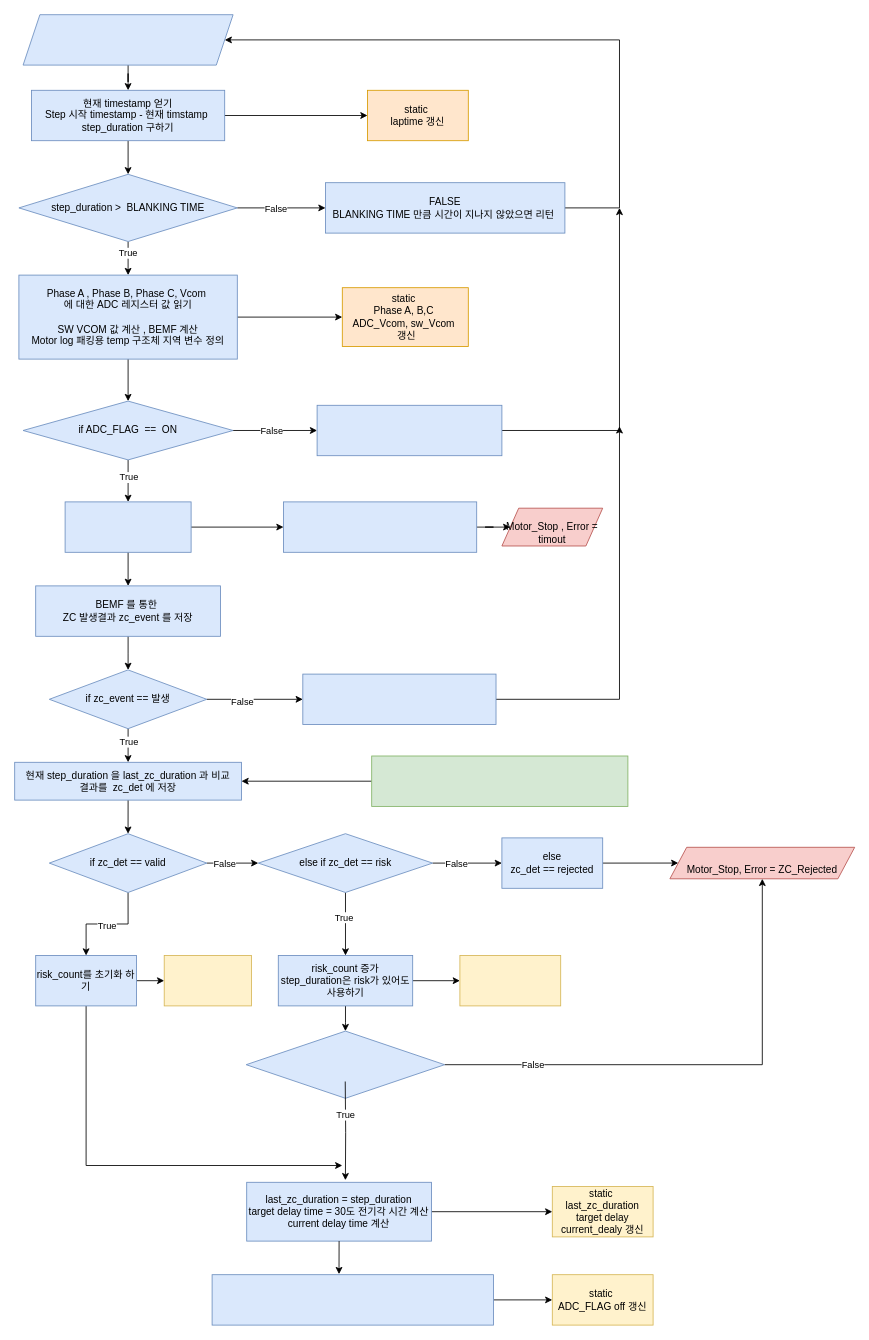
Some shapes in this 869 by 1340 pixel diagram are drawn without their labels. Here are the shapes that lost their labels. From the top down, the centre of each, then its label:
pixel 127 39: ADC 변환 완료 ISR , 20KHz 마다 진입
pixel 409 430: FALSE ADC 플래그가 세워져이 있지 않으면 이후 동작 하지 않고 리턴
pixel 127 526: if step_duration < TIMEOUT
pixel 380 526: FALSE laptime 이 TIMEOUT 보다 길어지면 에러
pixel 399 698: FALSE zc 발생 안했을시 리턴
pixel 499 780: step_duration 과 last_zc_duration을 비교하는 로직 첫 루프 진입시의 예외 처리, 비교 기준 등이 요구됨
pixel 207 980: static risk count 초기화
pixel 510 980: static risk_count ++
pixel 345 1064: risk count < TH_riskcount
pixel 352 1299: TIM3를 current_delay 만큼 트리거, ADC 에서 ZC 구역 진입 못하게 ADC_flag off 로그 패킹
